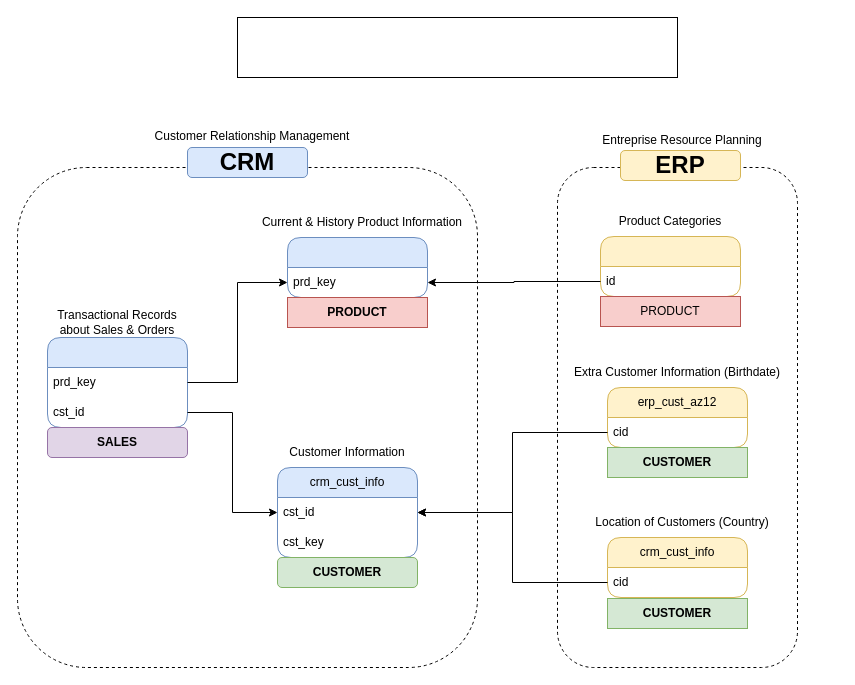
The diagram is 855 pixels wide and 685 high, and some of its shapes have lost their labels. Here are the shapes that lost their labels. From the top down, the box of each, then its label:
(236, 16, 678, 78): Data Integartion
(286, 236, 428, 298): crm_prd_info
(600, 236, 740, 296): erp_px_cat_g1v2
(46, 336, 188, 428): crm_sales_details
